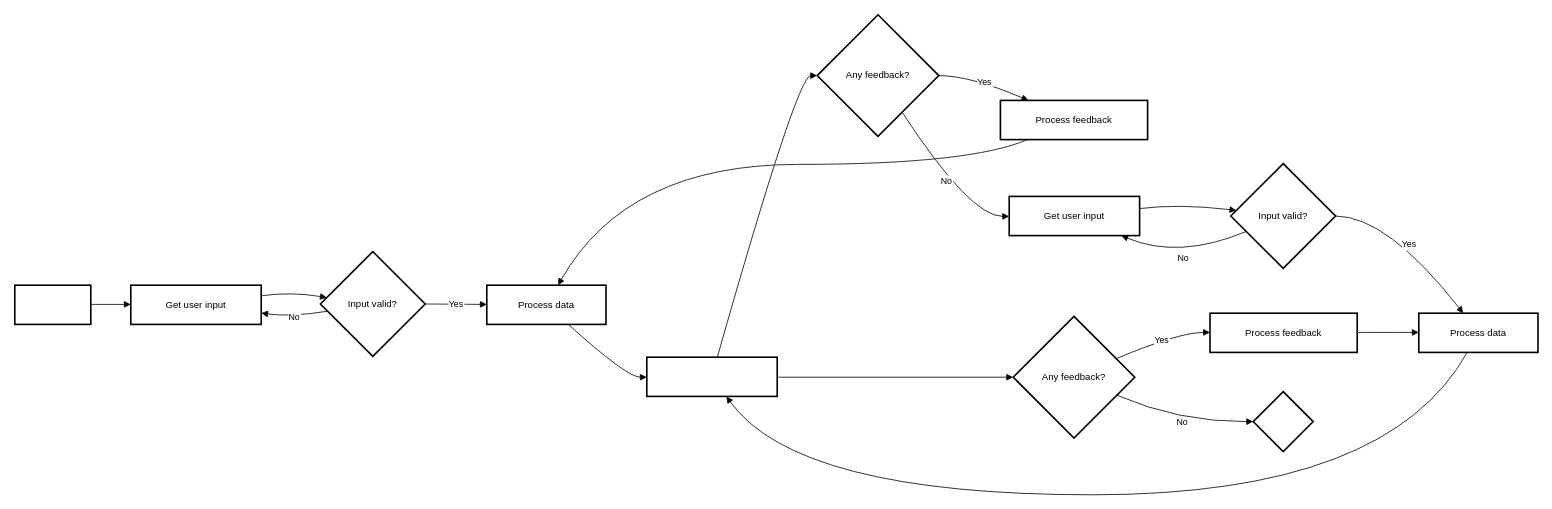
Image size: 1552x509. Some labels were removed from this diagram. The box of each missing label's shape, as (x1, y1, x2, y2) in pixels:
Display results: (646, 356, 778, 397)
End: (1252, 390, 1314, 452)
Start: (14, 284, 91, 325)
